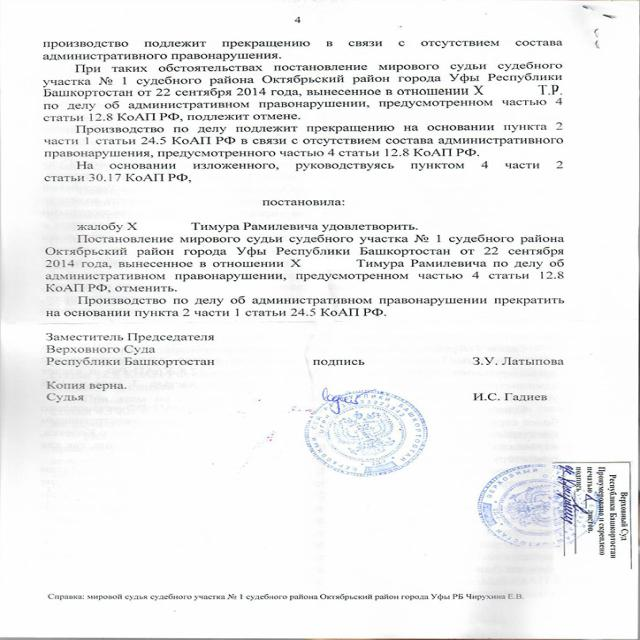stamps: (283, 375, 443, 498), (488, 457, 596, 562)
